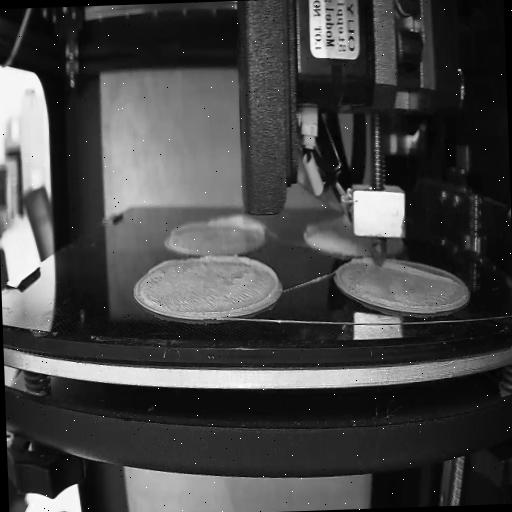over_extrusion: (198, 250, 280, 315), (384, 254, 458, 290), (208, 208, 268, 242), (168, 217, 206, 241), (147, 254, 182, 276), (352, 256, 373, 268)
